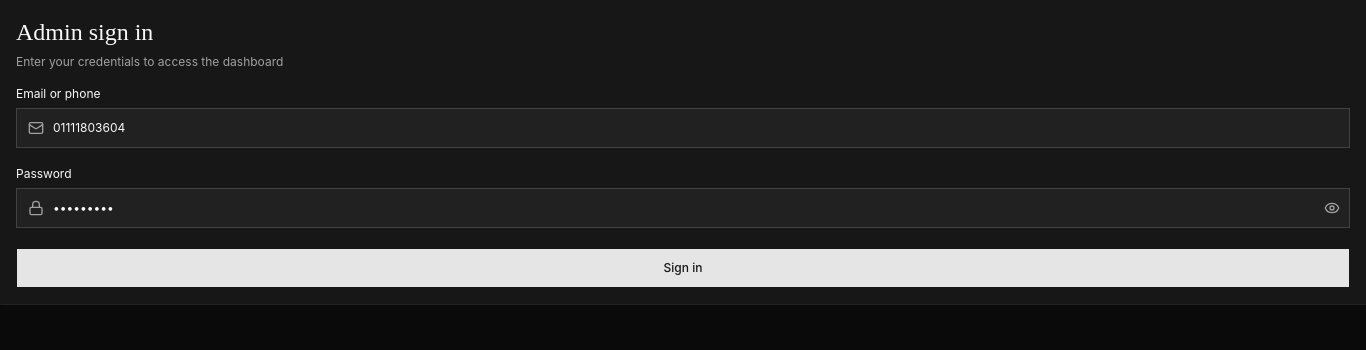
Test: LoginForm › does not submit without a password
Clear the password field labelled "Password". click: (683, 208)
box: [16,188,1350,228]
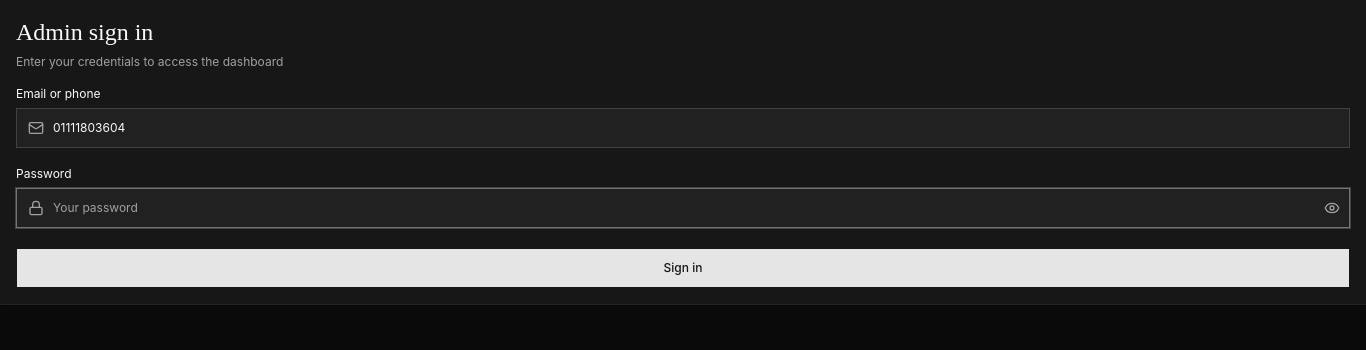
Click the button "Sign in". click: (683, 268)
box: [16,248,1350,288]
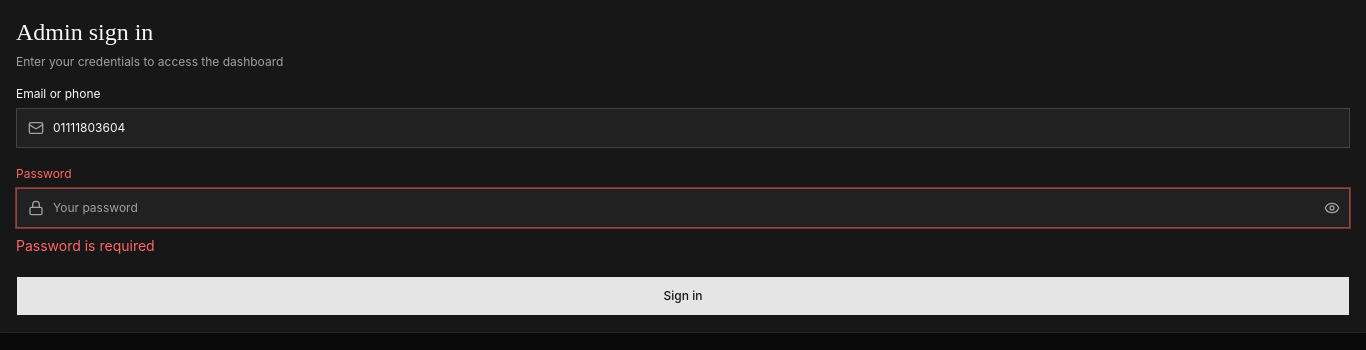
Expected: the text "Password is required" is shown, [16,236,155,254]
